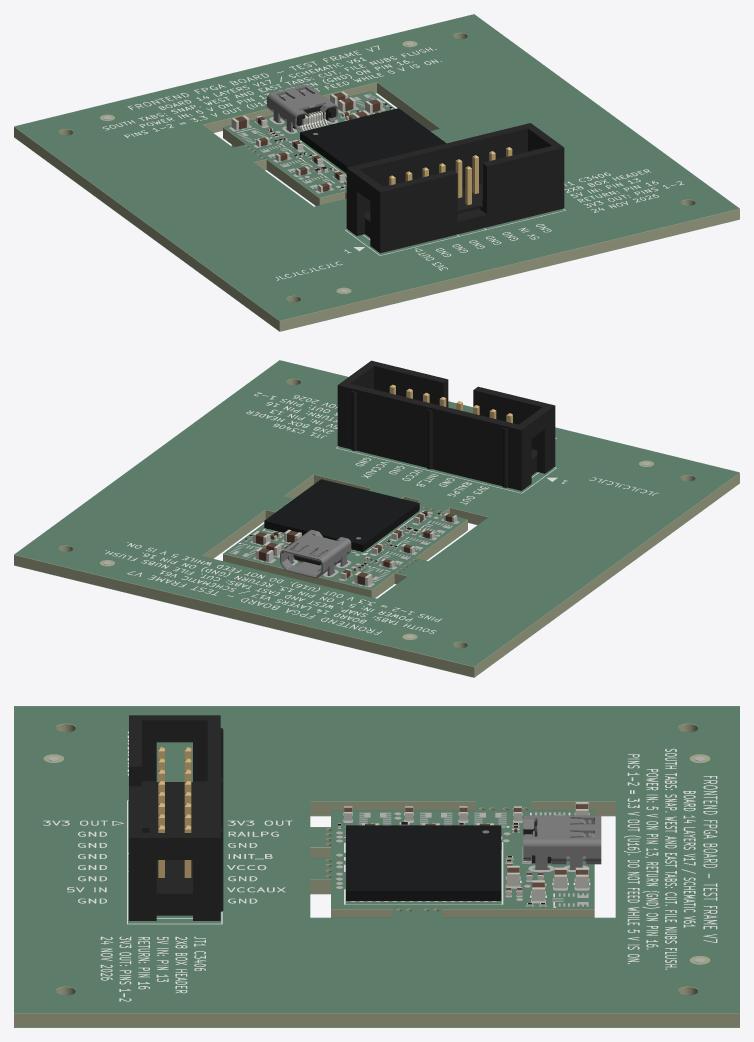
File: frontend-v17-test-frame-v7.glb
3 renders of one model, top to bottom at view 1: azimuth 30°, elevation 25°; view 2: azimuth 150°, elevation 25°; view 3: azimuth 270°, elevation 25°, orthographic. The views are drawn at different scales.
Parts seen in each view (by area): view 1: =>[0:1:1:384], =>[0:1:1:382], =>[0:1:1:9], CSG325_Body, =>[0:1:1:380], =>[0:1:1:345], =>[0:1:1:379], =>[0:1:1:383]; view 2: =>[0:1:1:384], =>[0:1:1:382], =>[0:1:1:9], CSG325_Body, =>[0:1:1:380], =>[0:1:1:345], =>[0:1:1:379], =>[0:1:1:383]; view 3: =>[0:1:1:384], =>[0:1:1:382], =>[0:1:1:9], CSG325_Body, =>[0:1:1:380], =>[0:1:1:345], =>[0:1:1:379], =>[0:1:1:383].
Boxes of the visible parts, x1,y1,x2,y2 form: =>[0:1:1:384]: (14,15,739,331); =>[0:1:1:382]: (14,14,739,320); =>[0:1:1:9]: (346,123,564,253); CSG325_Body: (300,108,446,173); =>[0:1:1:380]: (102,45,684,280); =>[0:1:1:345]: (267,84,338,132); =>[0:1:1:379]: (103,42,413,292); =>[0:1:1:383]: (14,93,739,331); =>[0:1:1:384]: (14,361,739,677); =>[0:1:1:382]: (14,360,739,666); =>[0:1:1:9]: (337,360,555,490); CSG325_Body: (264,479,419,551); =>[0:1:1:380]: (105,392,658,634); =>[0:1:1:345]: (280,529,351,578); =>[0:1:1:379]: (103,462,650,638); =>[0:1:1:383]: (14,483,739,677); =>[0:1:1:384]: (14,707,739,1027); =>[0:1:1:382]: (14,706,739,1012); =>[0:1:1:9]: (129,715,223,920); CSG325_Body: (346,825,501,900); =>[0:1:1:380]: (43,731,717,1001); =>[0:1:1:345]: (523,815,601,869); =>[0:1:1:379]: (48,756,705,962); =>[0:1:1:383]: (14,815,739,1027).
Size of the model in its own units: 0.07 by 0.0121 by 0.07.
